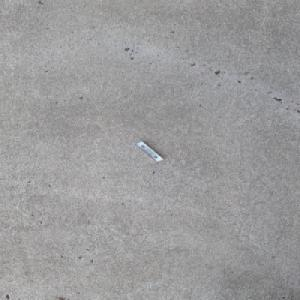ClampPart: (133, 140, 164, 162)
